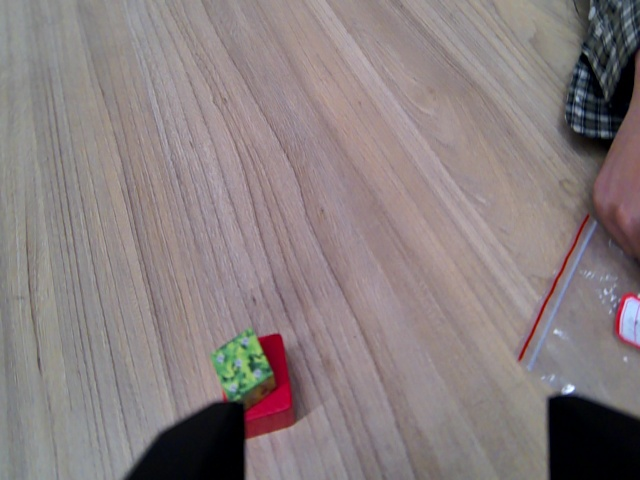grass: (208, 335, 278, 402)
